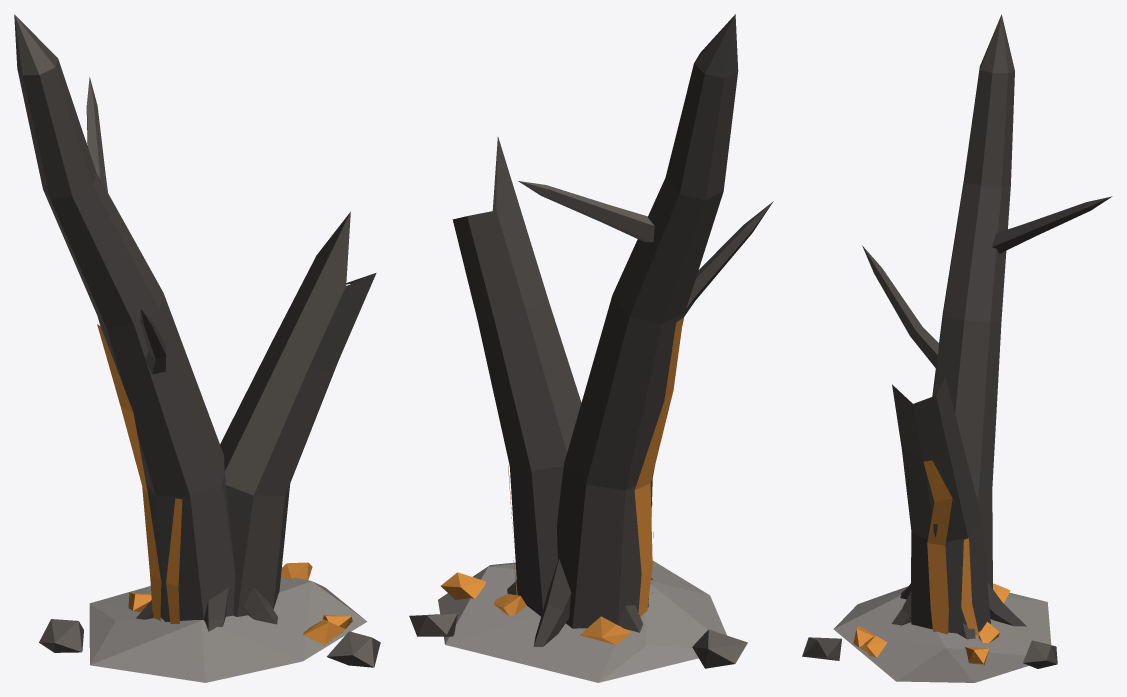
Rendered from tree_lava_2.glb.
The picture shows the model from 3 angles, left to right: view 1: azimuth 30°, elevation 25°; view 2: azimuth 150°, elevation 25°; view 3: azimuth 270°, elevation 25°; orthographic projection. The views are drawn at different scales.
Visible parts, largest first — view 1: Body; view 2: Body; view 3: Body.
Part boxes in pixels (x1,y1,x2,y2): Body: [14, 14, 380, 682]; Body: [409, 14, 773, 682]; Body: [802, 14, 1112, 682].
Size of the model in its own units: 2.95 by 6.06 by 3.01.
